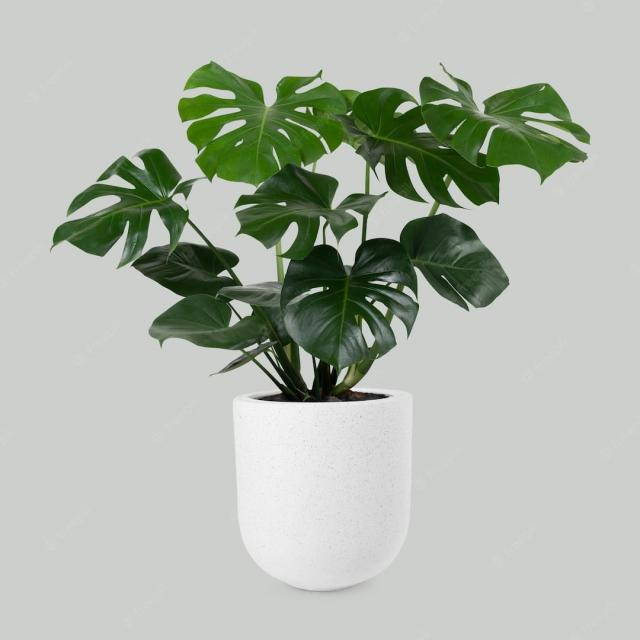Plants: (34, 40, 614, 606)
